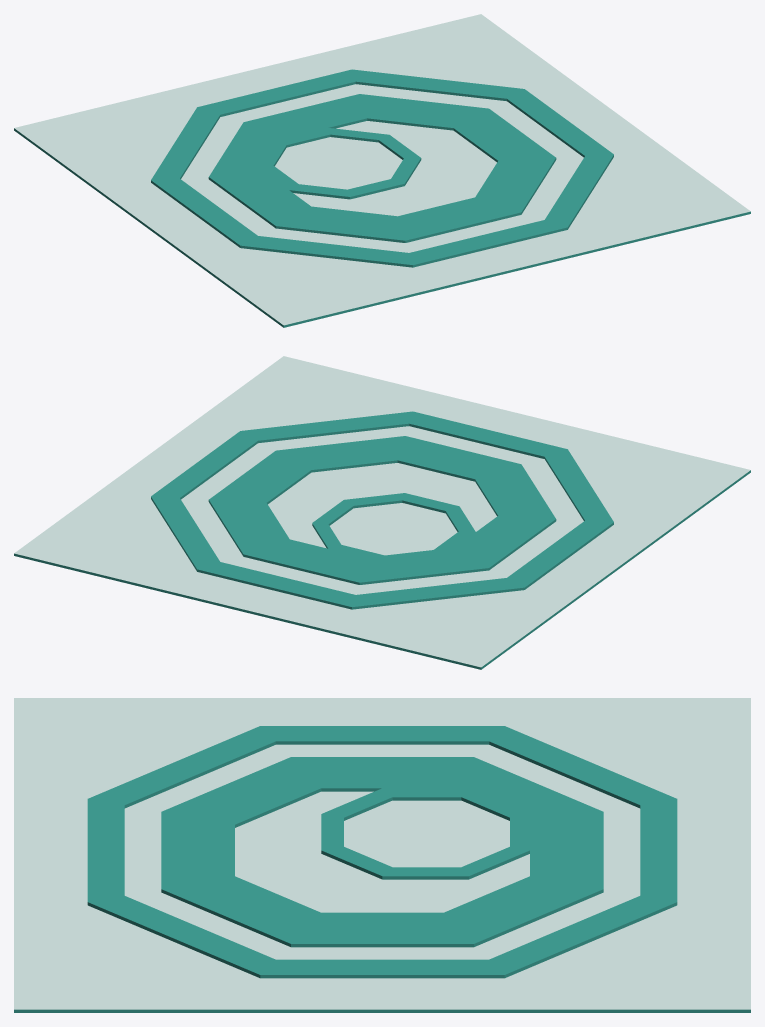
Rendered from Prop_Rug_Eclipse.fbx.
3 renders of one model, top to bottom at view 1: azimuth 30°, elevation 25°; view 2: azimuth 150°, elevation 25°; view 3: azimuth 270°, elevation 25°, orthographic. The views are drawn at different scales.
Visible parts, largest first — view 1: Blue_Fabric_3.Blue_Fabric_3.Blue_Fabric_3.Blue_Fabric_3, Blue_Fabric_1.Blue_Fabric_1.Blue_Fabric_1.Blue_Fabric_1.obje; view 2: Blue_Fabric_3.Blue_Fabric_3.Blue_Fabric_3.Blue_Fabric_3, Blue_Fabric_1.Blue_Fabric_1.Blue_Fabric_1.Blue_Fabric_1.obje; view 3: Blue_Fabric_3.Blue_Fabric_3.Blue_Fabric_3.Blue_Fabric_3, Blue_Fabric_1.Blue_Fabric_1.Blue_Fabric_1.Blue_Fabric_1.obje.
Part boxes in pixels (box(x1,y1,x2,y2)): Blue_Fabric_3.Blue_Fabric_3.Blue_Fabric_3.Blue_Fabric_3: box(14, 14, 750, 325); Blue_Fabric_1.Blue_Fabric_1.Blue_Fabric_1.Blue_Fabric_1.obje: box(14, 69, 750, 327); Blue_Fabric_3.Blue_Fabric_3.Blue_Fabric_3.Blue_Fabric_3: box(14, 356, 750, 667); Blue_Fabric_1.Blue_Fabric_1.Blue_Fabric_1.Blue_Fabric_1.obje: box(14, 411, 750, 669); Blue_Fabric_3.Blue_Fabric_3.Blue_Fabric_3.Blue_Fabric_3: box(14, 698, 750, 1009); Blue_Fabric_1.Blue_Fabric_1.Blue_Fabric_1.Blue_Fabric_1.obje: box(14, 726, 750, 1012).
Size of the model in its own units: 1 by 0.01 by 1.
